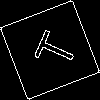T: (25, 25, 79, 72)
